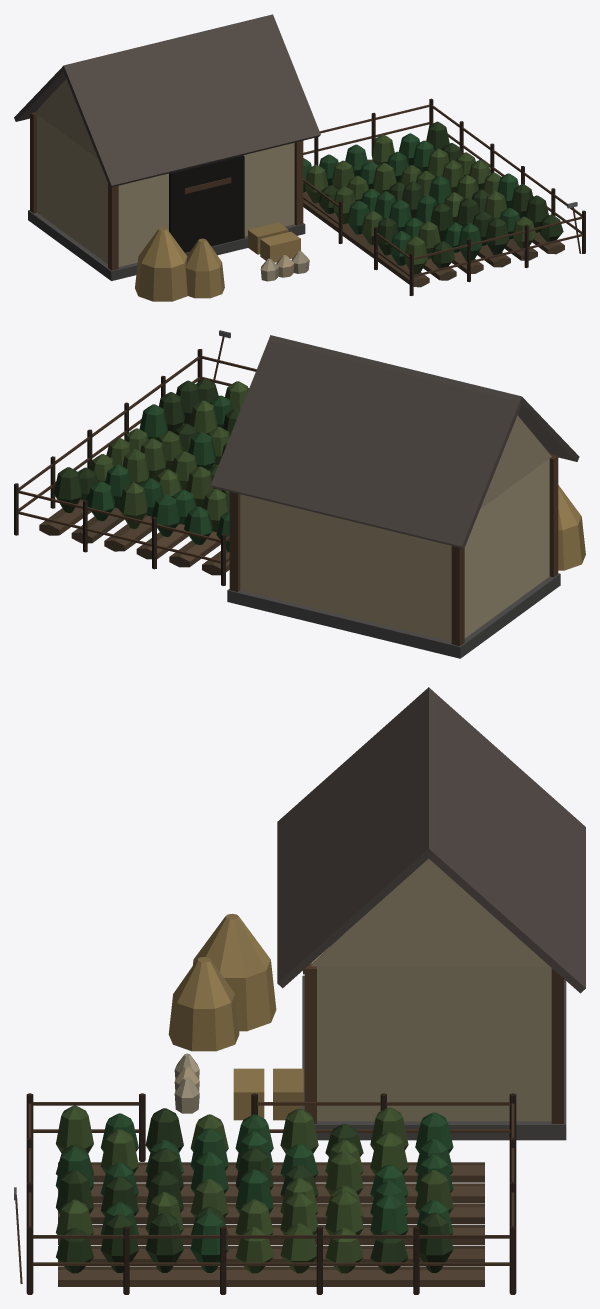
The model's file is walk_hallowed_plantation.glb.
3 renders of one model, top to bottom at view 1: azimuth 30°, elevation 25°; view 2: azimuth 150°, elevation 25°; view 3: azimuth 270°, elevation 25°, orthographic. The views are drawn at different scales.
Parts seen in each view (by area): view 1: walk_hallowed_plantation, walk_hallowed_plantation_roof; view 2: walk_hallowed_plantation, walk_hallowed_plantation_roof; view 3: walk_hallowed_plantation, walk_hallowed_plantation_roof.
Part boxes in pixels (left/top/right/bottom): walk_hallowed_plantation: left=28, top=79, right=585, bottom=301; walk_hallowed_plantation_roof: left=14, top=14, right=320, bottom=187; walk_hallowed_plantation: left=14, top=330, right=585, bottom=658; walk_hallowed_plantation_roof: left=211, top=335, right=579, bottom=548; walk_hallowed_plantation: left=14, top=858, right=566, bottom=1294; walk_hallowed_plantation_roof: left=277, top=687, right=585, bottom=993.
Size of what is drawn, in the model's own units: 12.85 by 6.04 by 10.18.
Materials: 2 (2 with a texture image).
